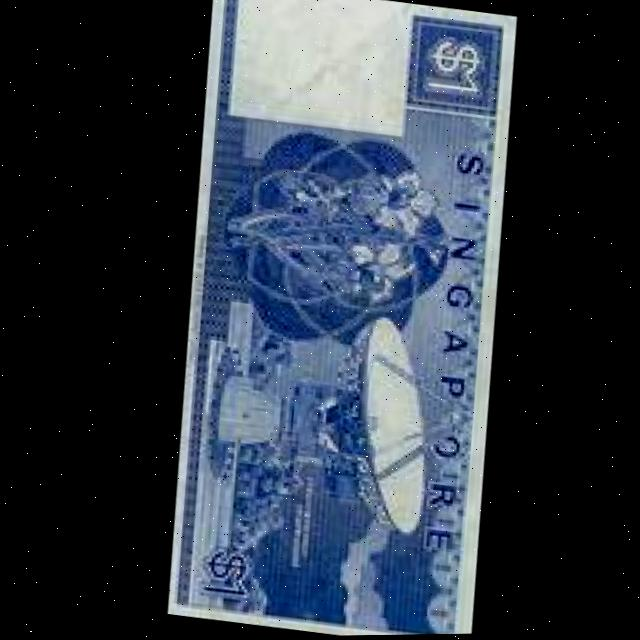banknote: (125, 0, 551, 639), (404, 27, 503, 110), (180, 540, 256, 614)
